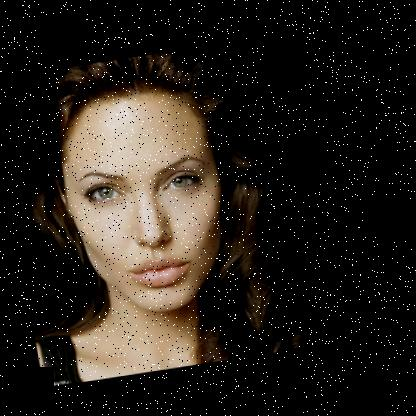Female: (39, 76, 240, 325)
